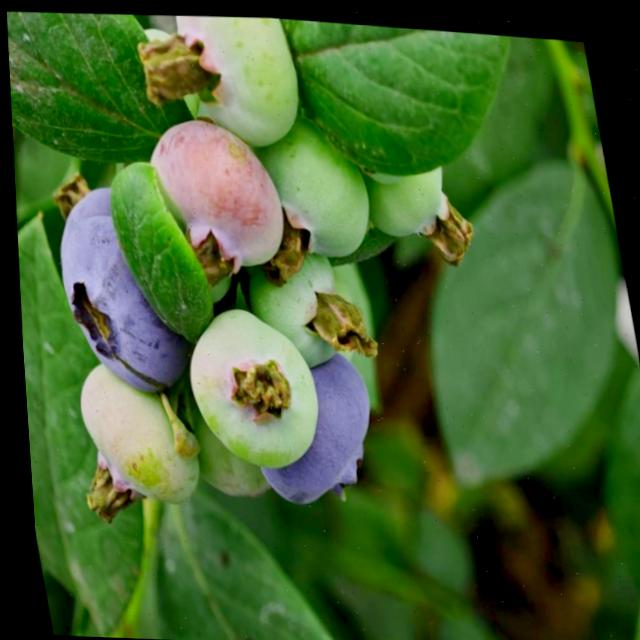RipeBlueBerry: (42, 176, 193, 396), (238, 341, 387, 510)
Semi-RipeBlueBerry: (143, 106, 300, 277)
UnripeBlueBerry: (173, 295, 331, 473), (166, 6, 320, 151), (66, 354, 206, 512), (259, 105, 385, 263), (241, 238, 359, 368)
